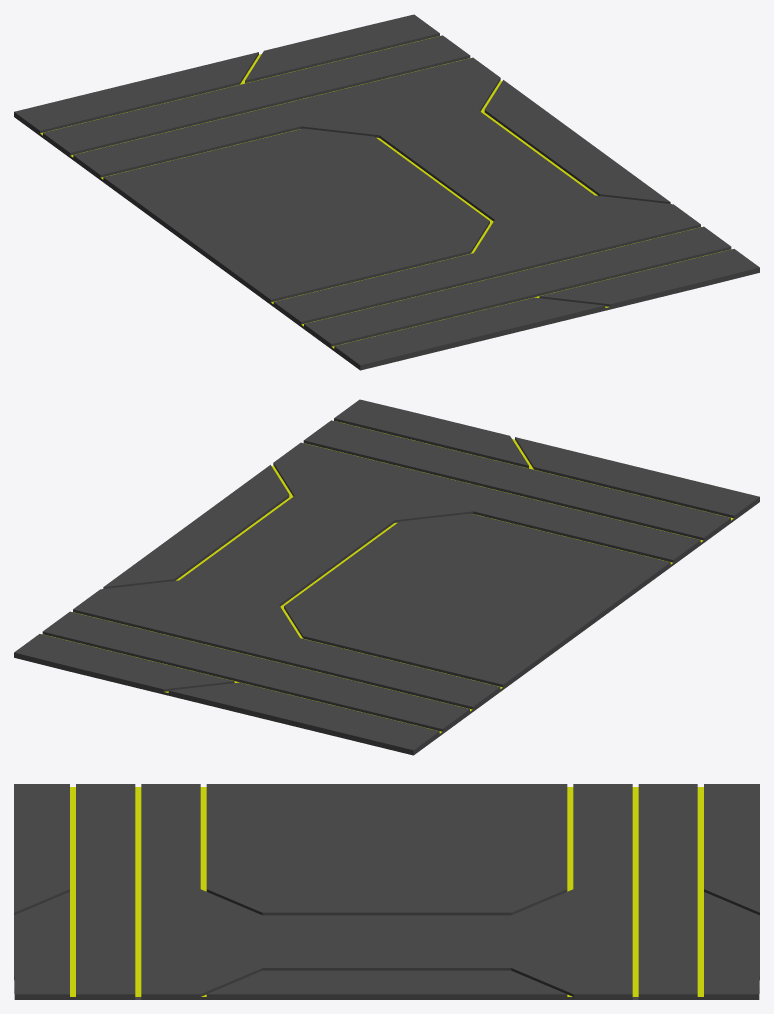
Rendered from groundfloor.glb.
3 views of the same model, one above another, from view 1: azimuth 30°, elevation 25°; view 2: azimuth 150°, elevation 25°; view 3: azimuth 270°, elevation 25° (orthographic). The views are drawn at different scales.
Parts seen in each view (by area): view 1: Plane.002; view 2: Plane.002; view 3: Plane.002.
Part boxes in pixels (x1,y1,x2,y2): Plane.002: (14, 14, 759, 370); Plane.002: (14, 399, 759, 755); Plane.002: (14, 784, 759, 999).
Bounding box in the file's own units: 8 × 0.1 × 12.
